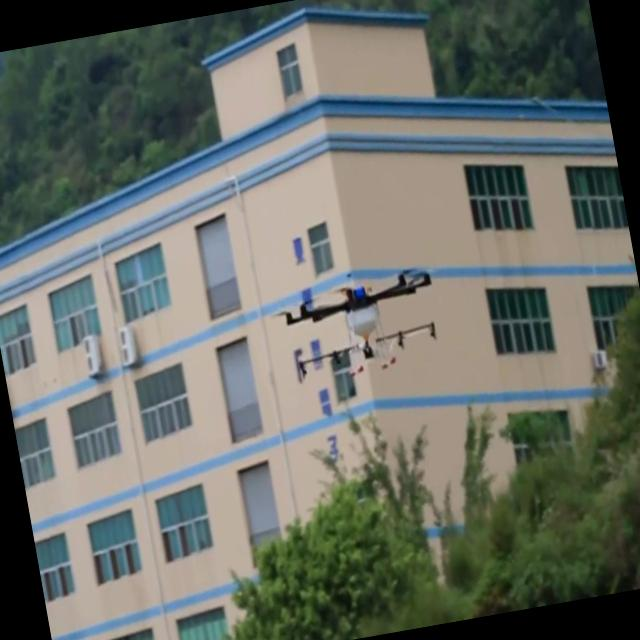drone: (270, 258, 446, 388)
